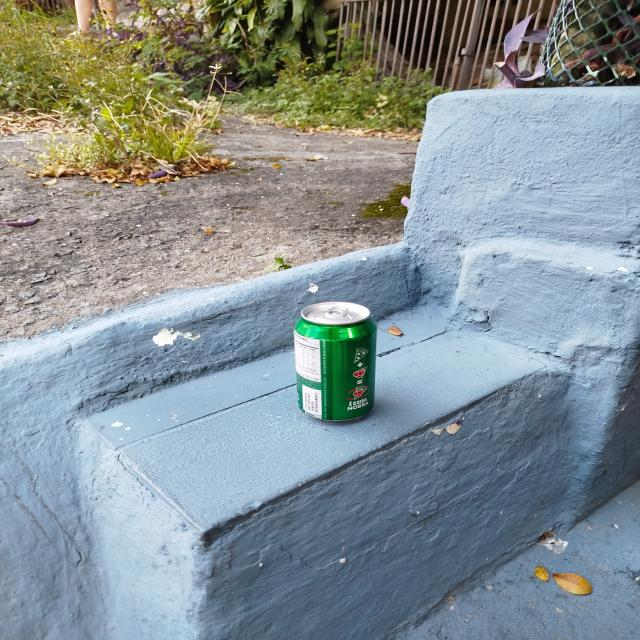Guarana: (292, 302, 380, 424)
